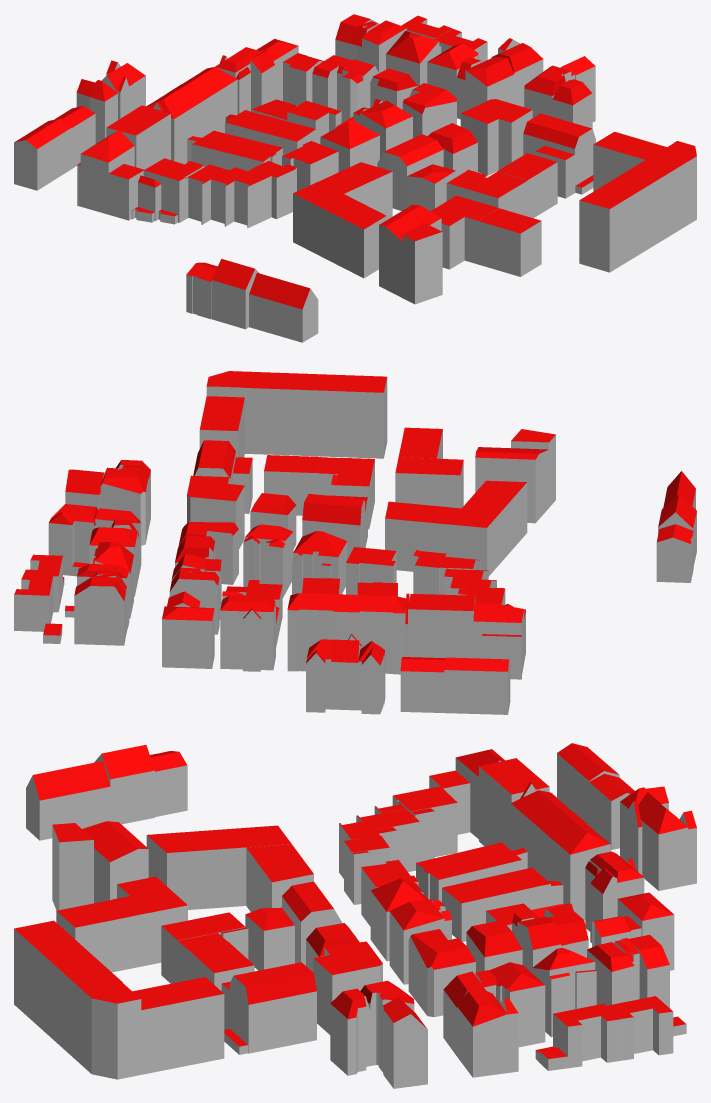
3 views of the same model, one above another, from view 1: azimuth 30°, elevation 25°; view 2: azimuth 150°, elevation 25°; view 3: azimuth 270°, elevation 25° (orthographic). The views are drawn at different scales.
Bounding box in the file's own units: 204 × 27.18 × 201.
